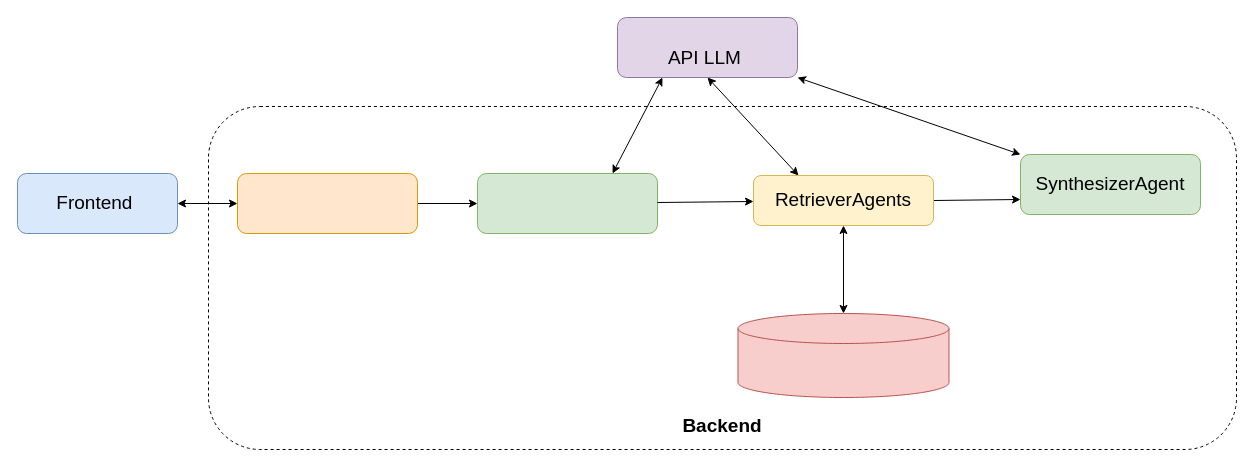
Image size: 1254x467. Some labels were removed from this diagram. Each missing label, with the centre of its shape:
"ConversationOrchestrator" belongs at (x=327, y=203).
"Knowledge Graph (Neo4j)" belongs at (x=843, y=355).
"RouterAgent" belongs at (x=567, y=203).
